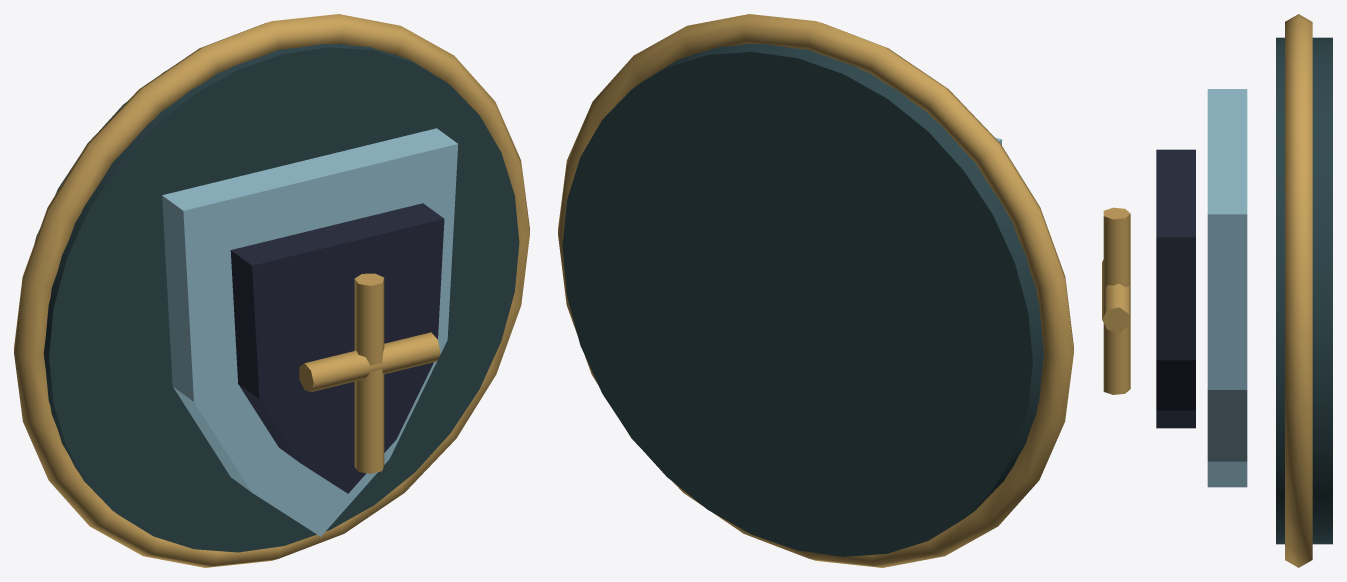
The model's file is guard.fbx.
3 renders of one model, left to right at view 1: azimuth 30°, elevation 25°; view 2: azimuth 150°, elevation 25°; view 3: azimuth 270°, elevation 25°, orthographic. The views are drawn at different scales.
Visible parts, largest first — view 1: guard; view 2: guard; view 3: guard.
Boxes of the visible parts, left/top/right/bottom form: guard: left=14, top=14, right=529, bottom=567; guard: left=558, top=14, right=1073, bottom=567; guard: left=1102, top=14, right=1332, bottom=567.
Size of the model in its own units: 0.976 by 0.976 by 0.405.
